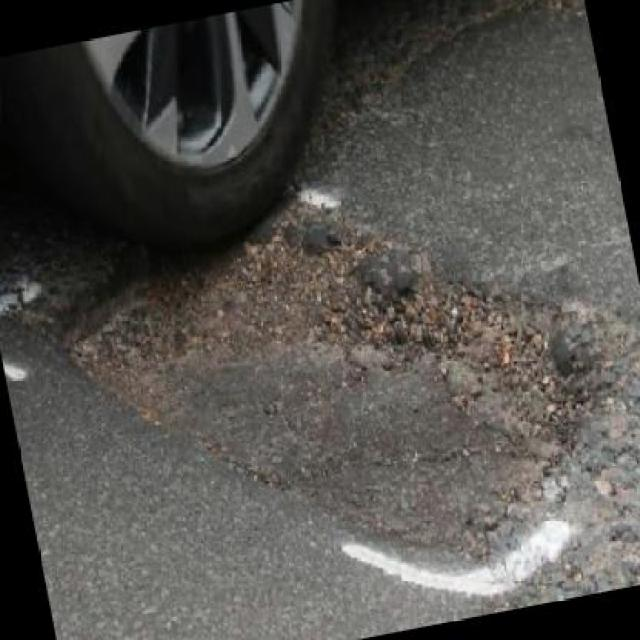pothole1: (39, 152, 595, 568)
